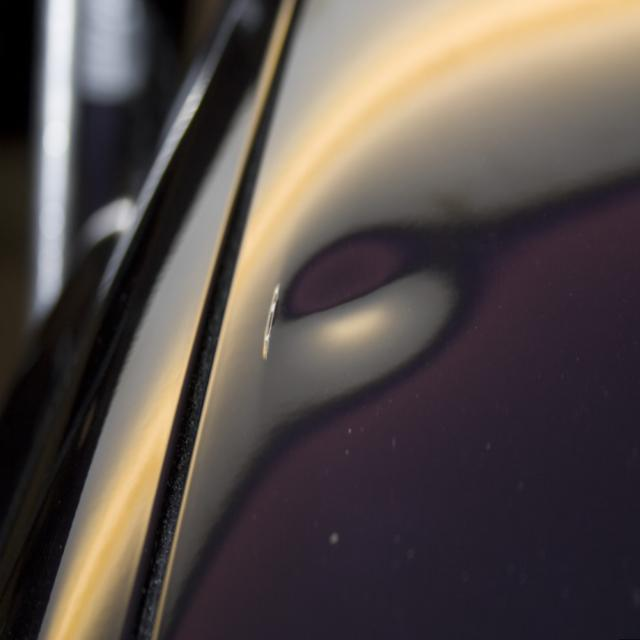dents: (237, 206, 463, 394)
